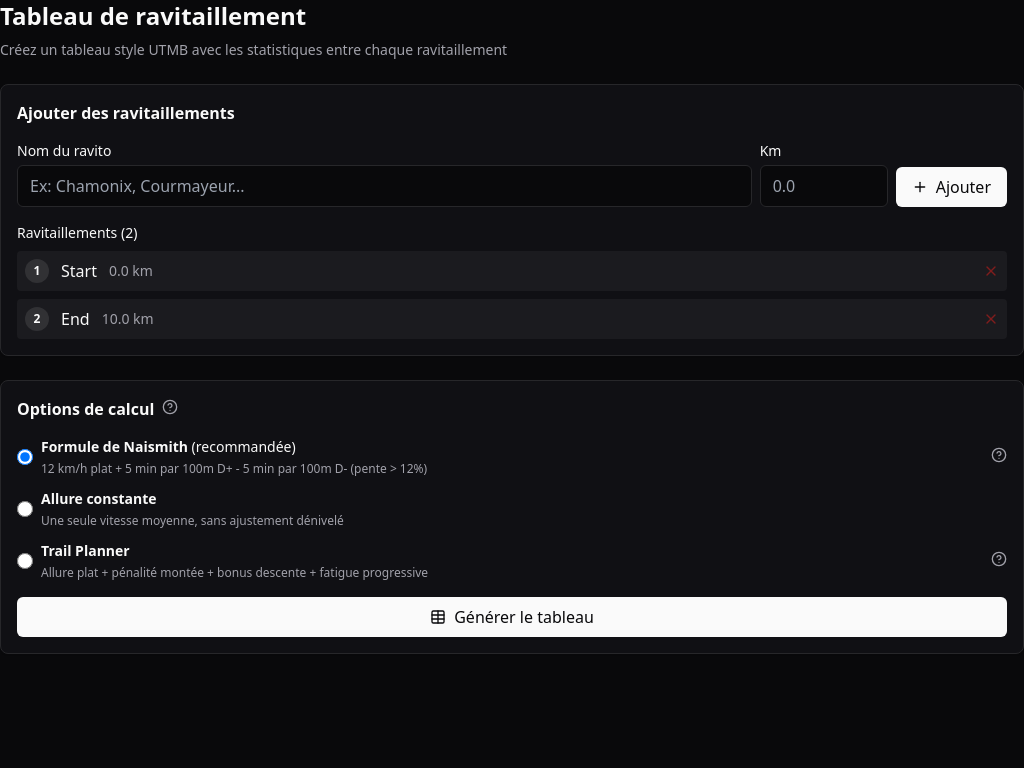
Test: AidStationTable — calc modes › reveals the Trail Planner form when the user clicks that radio
This screenshot has width=1024, height=768.
Click the radio button labelled "Trail Planner": coordinates (25, 561) [17, 553, 33, 569]
(page scrolled)
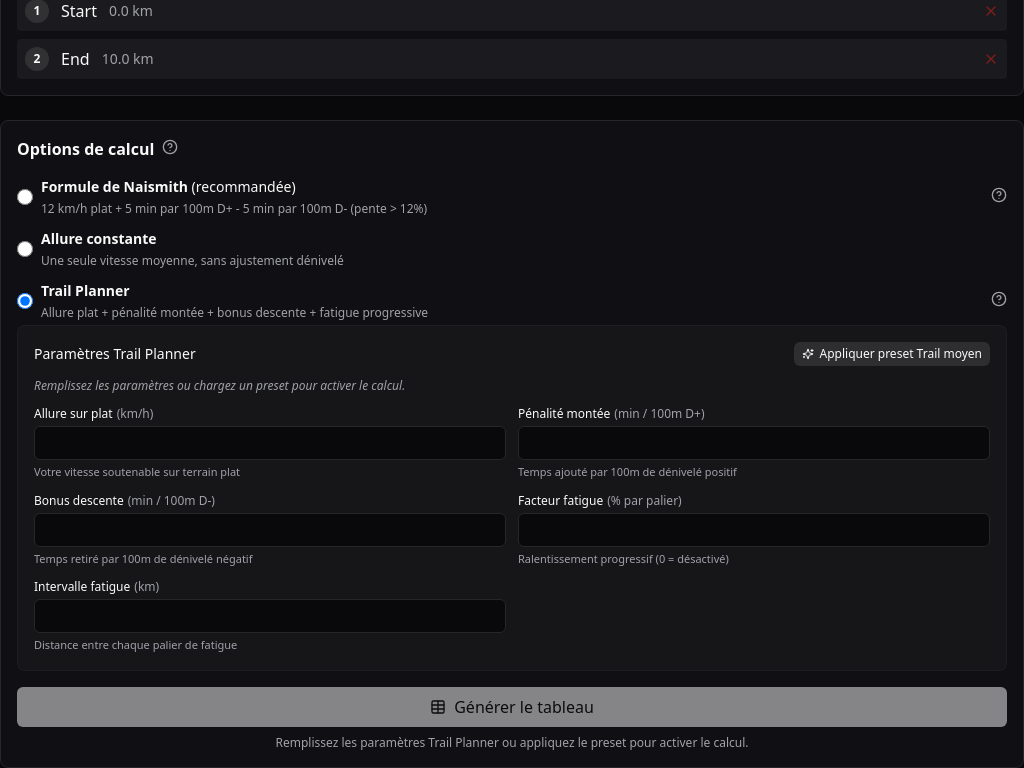
Expected: the element with test id "trail-planner-form" is shown, [17, 325, 1007, 670]
